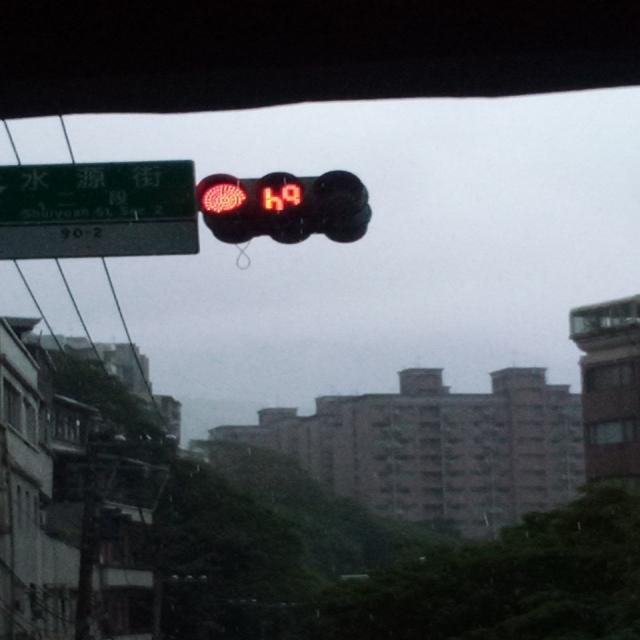red light: (196, 170, 374, 225)
